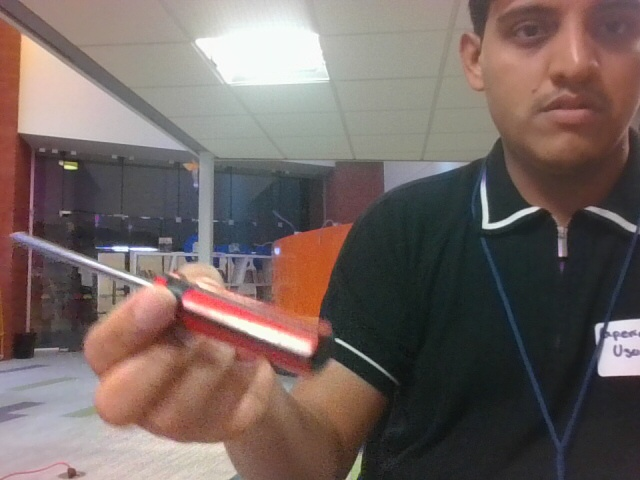destornillador: (10, 232, 330, 376)
